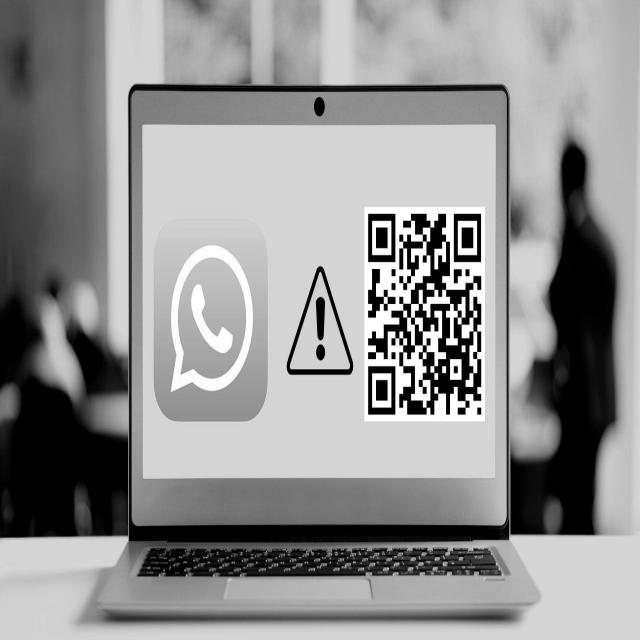QR-codes: (368, 212, 484, 419)
